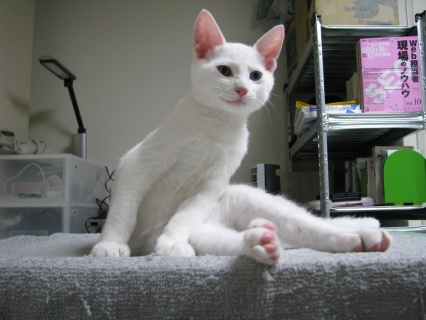Cat: (87, 7, 393, 267)
